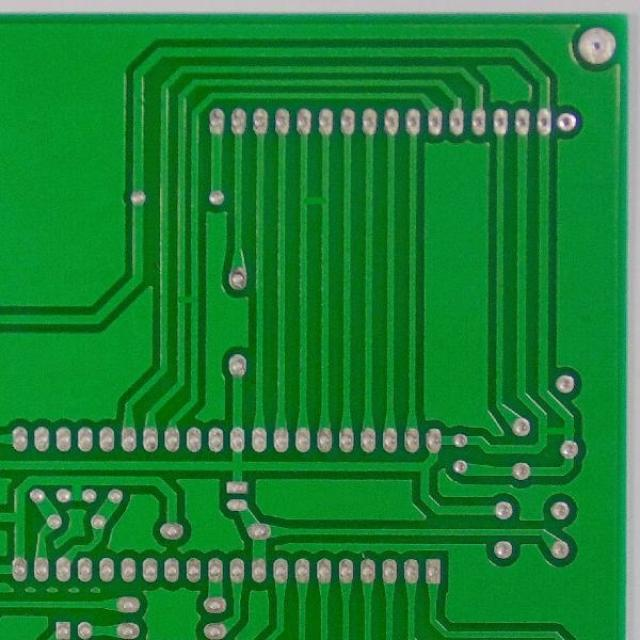short: (534, 414, 580, 444), (296, 188, 330, 209), (174, 289, 201, 312)
